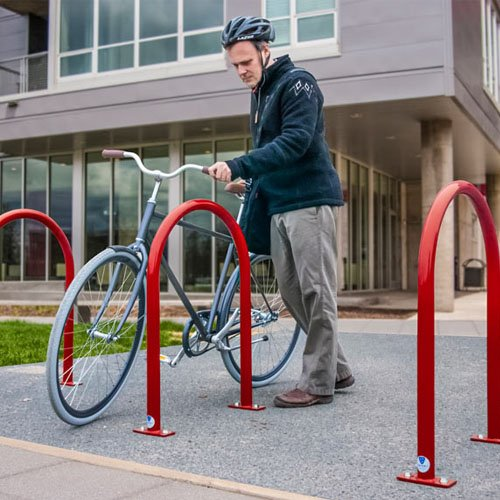Person: (207, 14, 360, 415)
